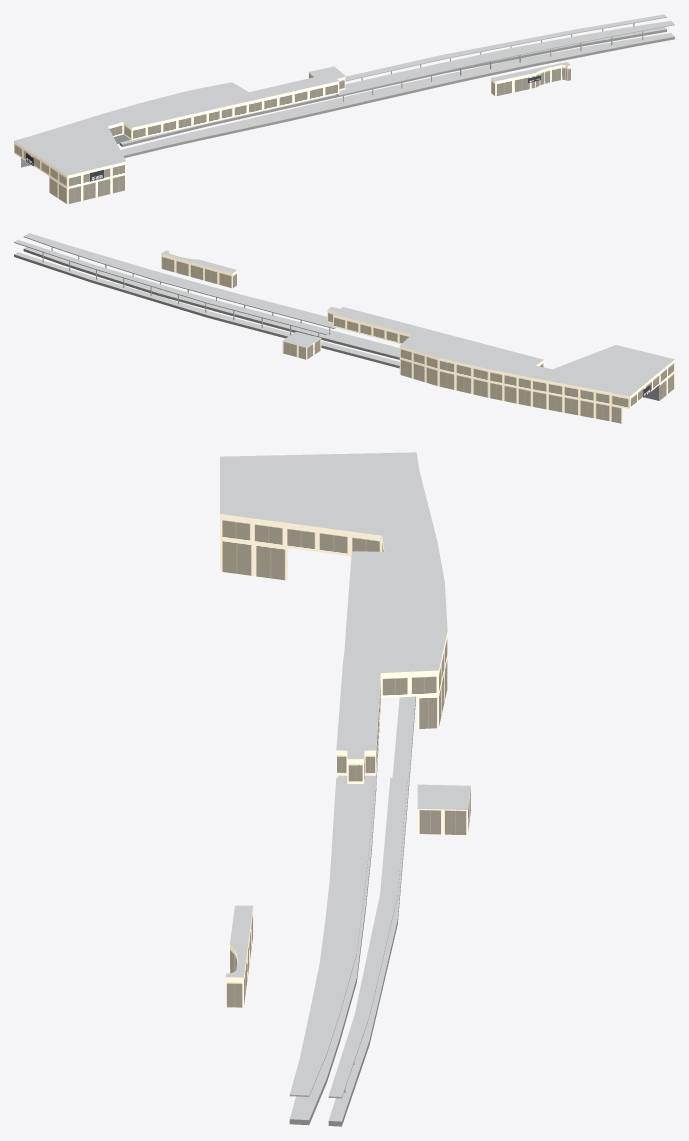
File: harajuku_station.glb
3 views of the same model, one above another, from view 1: azimuth 30°, elevation 25°; view 2: azimuth 150°, elevation 25°; view 3: azimuth 270°, elevation 25° (orthographic). The views are drawn at different scales.
Parts seen in each view (by area): view 1: HJ_Station; view 2: HJ_Station; view 3: HJ_Station.
Boxes of the visible parts, x1=… form: HJ_Station: x1=14, y1=14, x2=674, y2=204; HJ_Station: x1=14, y1=233, x2=674, y2=423; HJ_Station: x1=220, y1=452, x2=470, y2=1126.
Size of the model in its own units: 264 by 11.5 by 45.65.
9 materials, 2 textured.
